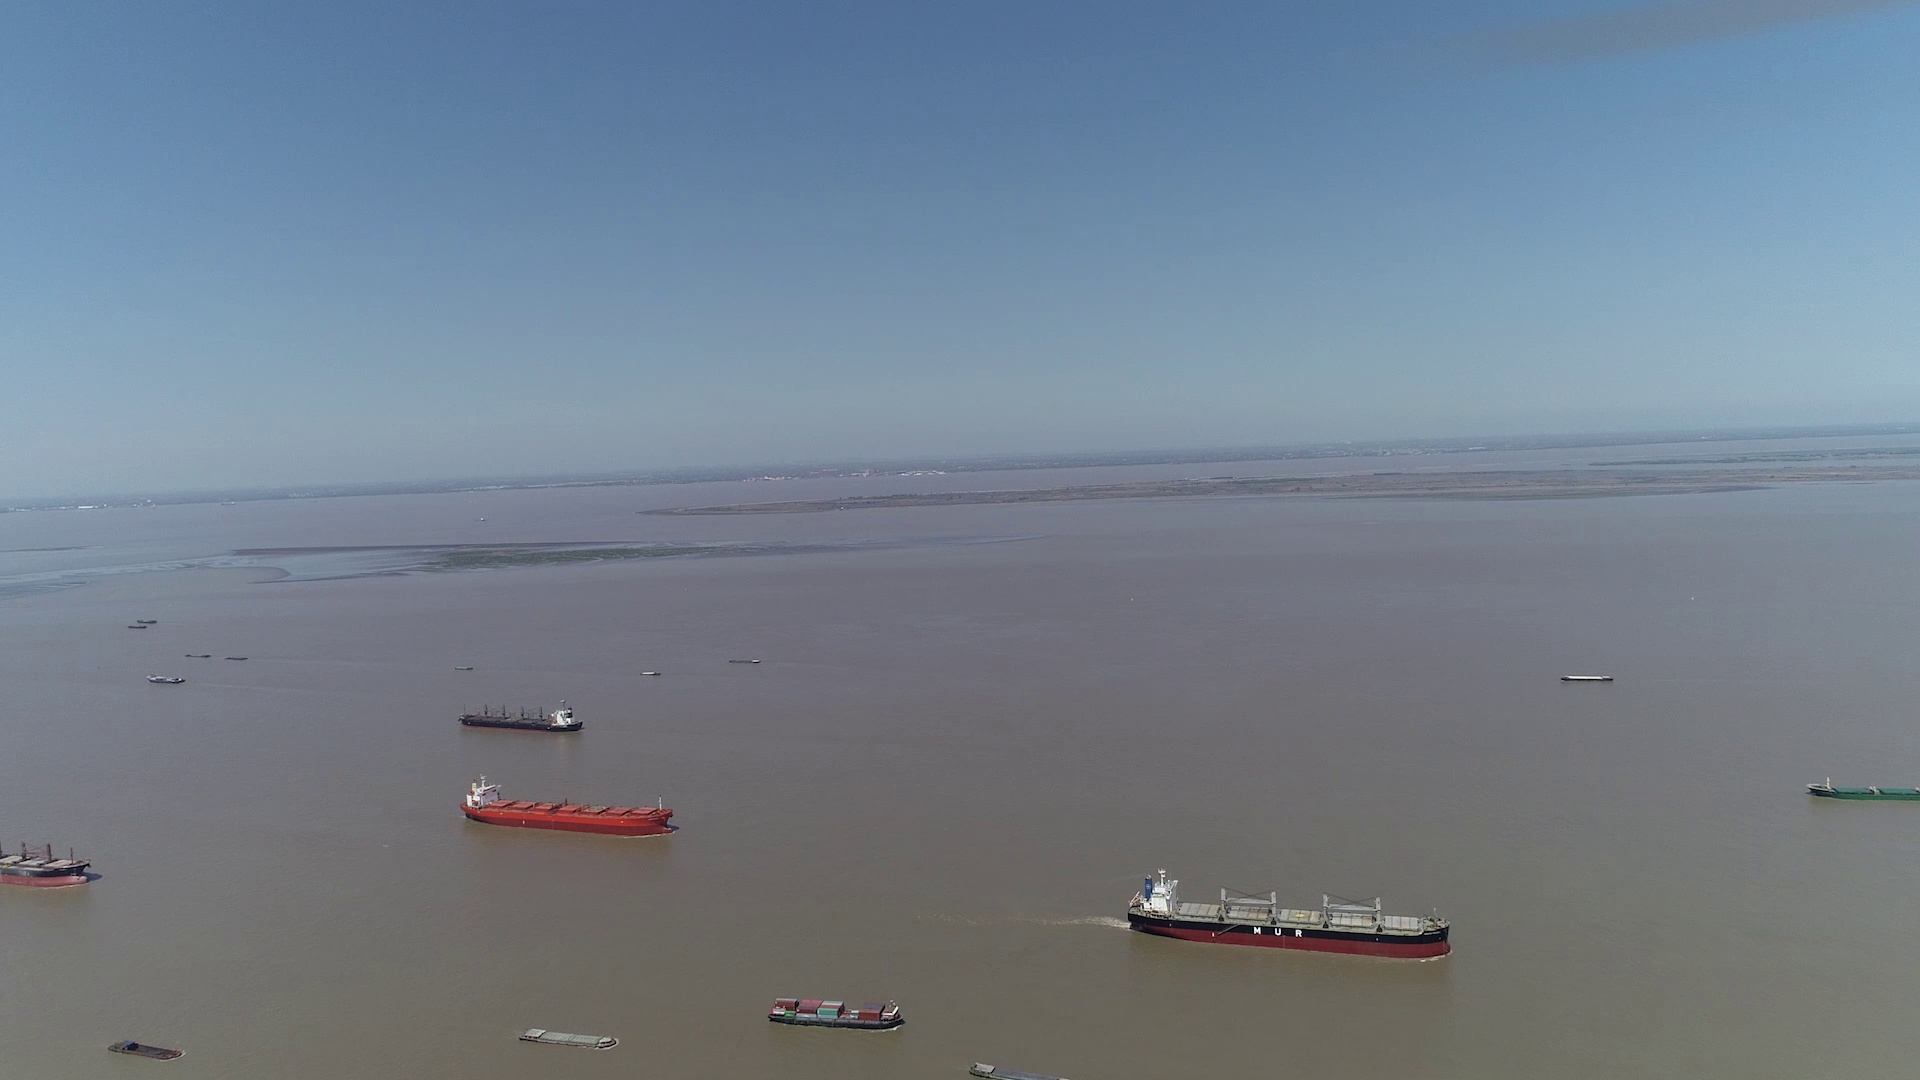ship: (1127, 869, 1451, 959), (459, 771, 673, 836), (0, 831, 96, 887), (766, 997, 906, 1031), (460, 702, 580, 733), (1807, 777, 1920, 800), (516, 1026, 618, 1048), (109, 1040, 183, 1059), (1560, 674, 1615, 683), (148, 674, 185, 686)
